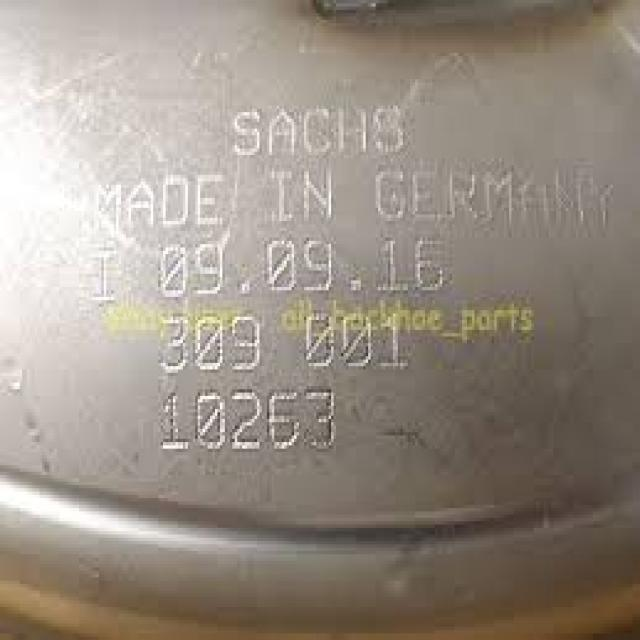ocr: (371, 166, 616, 238), (155, 385, 346, 460), (226, 101, 408, 161), (86, 168, 226, 238), (151, 306, 263, 380), (298, 307, 416, 377), (374, 231, 453, 302), (262, 229, 339, 299), (264, 163, 340, 230), (150, 238, 227, 302), (86, 242, 122, 312)
